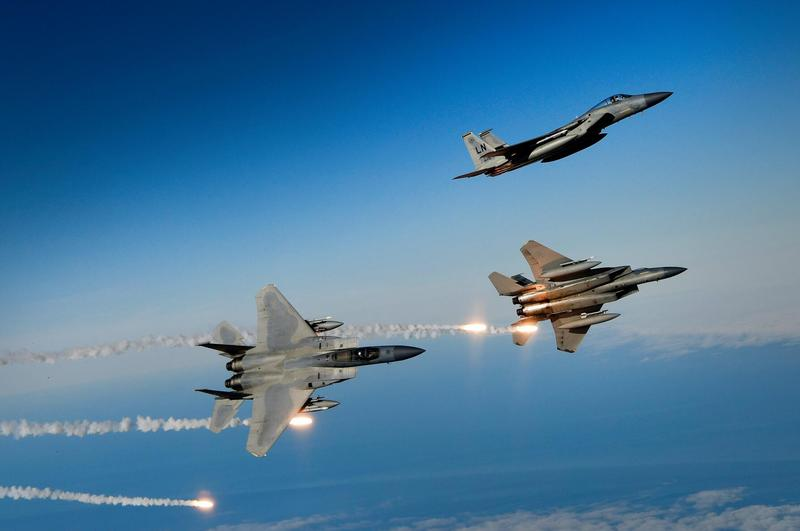airplane: (192, 293, 428, 457), (482, 239, 688, 349), (449, 89, 676, 187)
